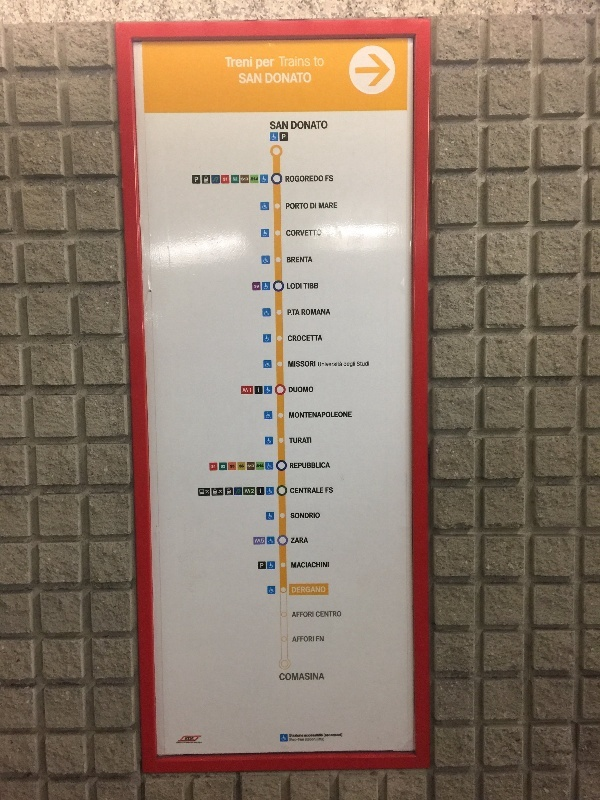text: (273, 71, 288, 85), (289, 71, 304, 85), (225, 56, 240, 69), (257, 58, 272, 70), (289, 56, 304, 68), (241, 73, 256, 85), (273, 120, 289, 131), (305, 120, 320, 131), (241, 56, 253, 69), (289, 672, 304, 682), (305, 672, 320, 682), (291, 120, 304, 131), (278, 56, 288, 68), (289, 202, 304, 210), (321, 202, 336, 210), (289, 229, 304, 237), (305, 229, 320, 237), (289, 256, 304, 264), (305, 309, 320, 317), (289, 335, 304, 343), (305, 335, 320, 343), (289, 411, 304, 419), (305, 411, 320, 419), (321, 411, 336, 419), (337, 411, 352, 419), (305, 487, 320, 495), (305, 282, 319, 290), (290, 487, 304, 495), (289, 176, 304, 183), (305, 176, 320, 183), (289, 361, 304, 368), (321, 361, 336, 368), (289, 386, 304, 393), (289, 437, 304, 444), (305, 462, 320, 469), (305, 562, 320, 569), (305, 587, 320, 594), (321, 611, 336, 618), (265, 71, 272, 85), (305, 71, 312, 85), (290, 462, 304, 469), (305, 513, 321, 519), (195, 176, 208, 183), (289, 283, 302, 290), (259, 488, 272, 495), (291, 537, 304, 544), (291, 562, 304, 569), (257, 387, 272, 393), (279, 672, 288, 682), (325, 175, 336, 183), (289, 309, 301, 316), (290, 513, 304, 519), (292, 587, 304, 594), (310, 202, 320, 210), (321, 309, 331, 317), (321, 120, 328, 131), (305, 361, 316, 368), (325, 487, 336, 494), (293, 611, 304, 618), (241, 177, 256, 182), (257, 464, 272, 469), (289, 733, 304, 738), (305, 733, 320, 738), (321, 733, 336, 738), (305, 56, 311, 68), (321, 462, 331, 469), (294, 636, 304, 643), (305, 636, 315, 643), (314, 56, 320, 67), (357, 361, 368, 367), (245, 488, 256, 494), (243, 388, 256, 393), (305, 256, 313, 264), (305, 386, 314, 393), (305, 611, 314, 618), (257, 73, 262, 85), (260, 563, 272, 568), (289, 738, 304, 742), (305, 738, 320, 742), (344, 361, 352, 368), (321, 562, 329, 569), (321, 672, 326, 682), (305, 437, 312, 444), (212, 465, 224, 469), (282, 133, 288, 140), (337, 361, 343, 368), (230, 465, 240, 469), (248, 464, 256, 469), (257, 539, 265, 544), (233, 177, 240, 182), (321, 587, 326, 594), (337, 611, 342, 618), (321, 56, 324, 67), (305, 202, 309, 210), (316, 635, 320, 643), (337, 733, 343, 738), (305, 537, 309, 544), (316, 611, 320, 618), (185, 737, 192, 741), (251, 177, 256, 182), (273, 58, 275, 70), (301, 309, 304, 317), (321, 487, 324, 495), (321, 635, 324, 643), (270, 120, 272, 131), (321, 176, 324, 183), (353, 361, 356, 368), (286, 202, 288, 210), (318, 202, 320, 210), (286, 229, 288, 237), (321, 335, 323, 343), (321, 738, 325, 742), (225, 177, 228, 182), (241, 464, 244, 469), (286, 176, 288, 183), (318, 361, 320, 368), (255, 58, 256, 70), (239, 73, 240, 85), (257, 285, 260, 289), (221, 465, 224, 469), (257, 177, 259, 182), (337, 202, 338, 210), (321, 229, 322, 237), (287, 256, 288, 264), (303, 282, 304, 290), (254, 285, 256, 289), (287, 283, 288, 290), (287, 309, 288, 316), (369, 361, 370, 367), (223, 177, 224, 182), (239, 464, 240, 469), (225, 465, 226, 469), (193, 737, 194, 741)
